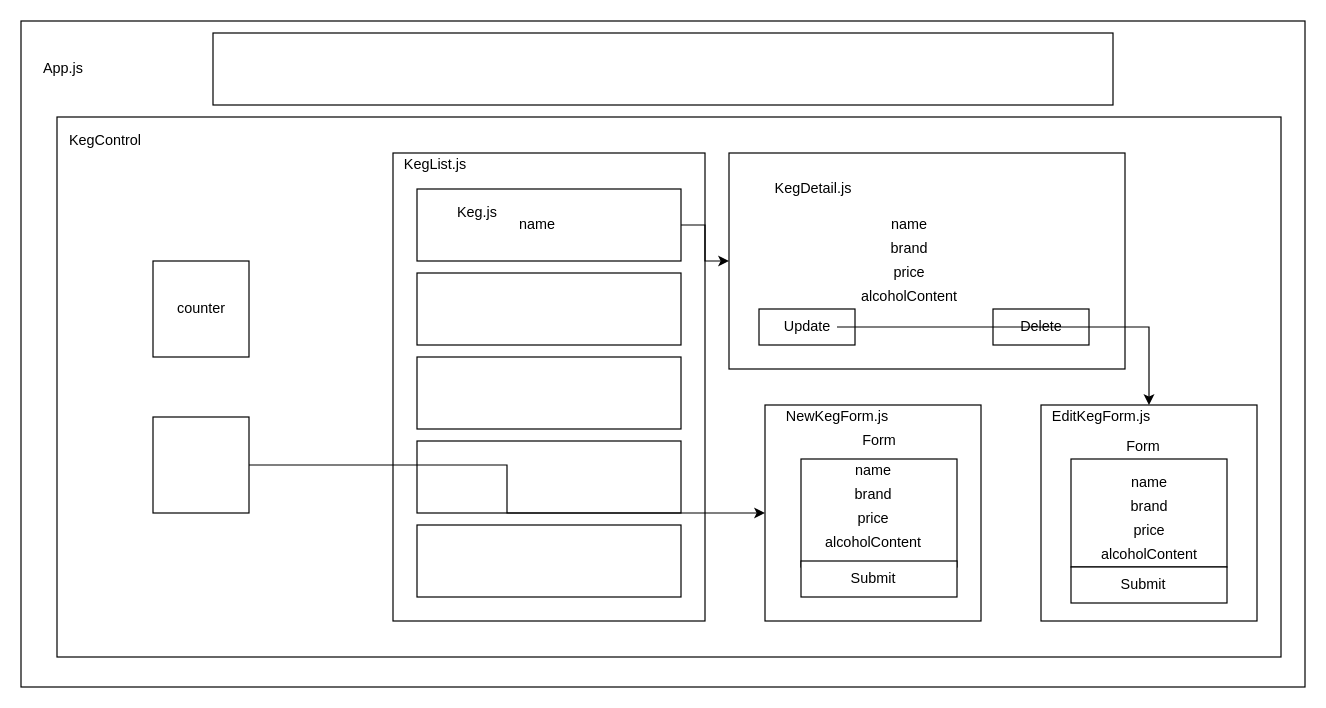
This 1326x708 diagram has some shape labels left out. The centre of each missing label's shape, as x and y in pixels:
"AddKeg.js" goes at (x=200, y=464).
"Header.js" goes at (x=662, y=68).
